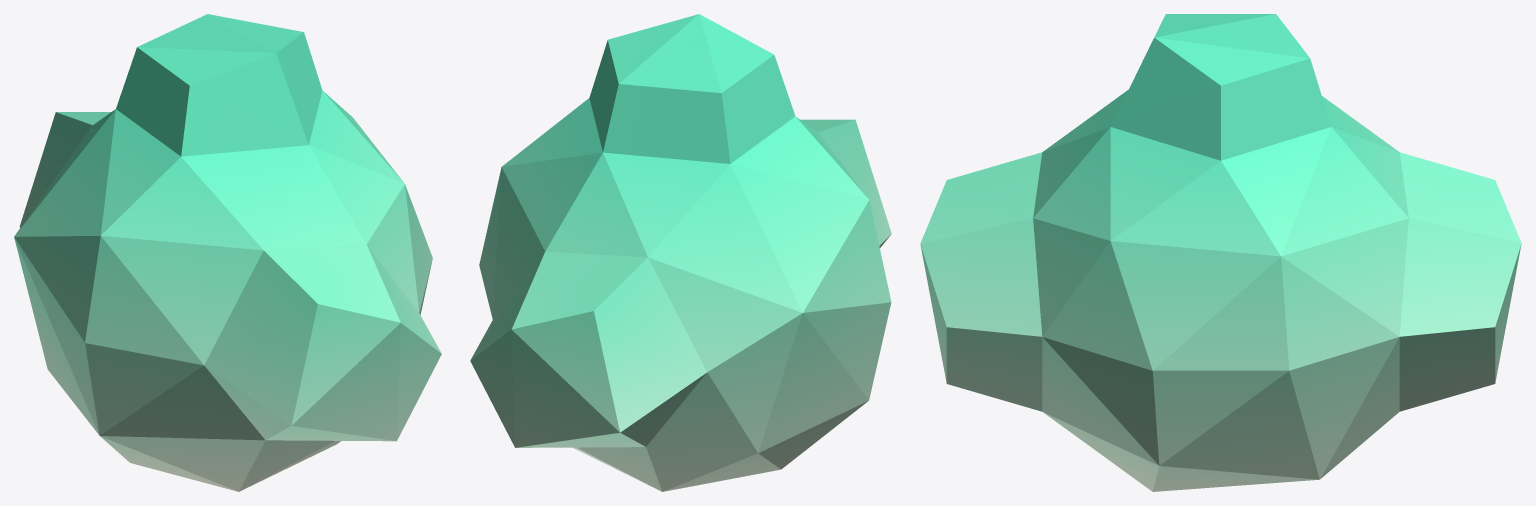
The model's file is ImpuroViento.fbx.
3 views of the same model, side by side, from view 1: azimuth 30°, elevation 25°; view 2: azimuth 150°, elevation 25°; view 3: azimuth 270°, elevation 25° (orthographic). The views are drawn at different scales.
Visible parts, largest first — view 1: Icosphere.008; view 2: Icosphere.008; view 3: Icosphere.008.
Boxes of the visible parts, x1,y1,x2,y2 form: Icosphere.008: (14,14,441,491); Icosphere.008: (470,14,891,491); Icosphere.008: (920,14,1521,491).
Bounding box in the file's own units: 190 × 226 × 272.
